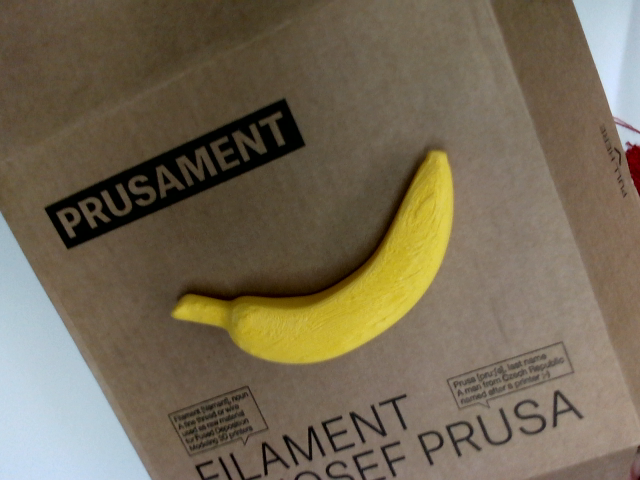banana: (166, 146, 506, 418)
